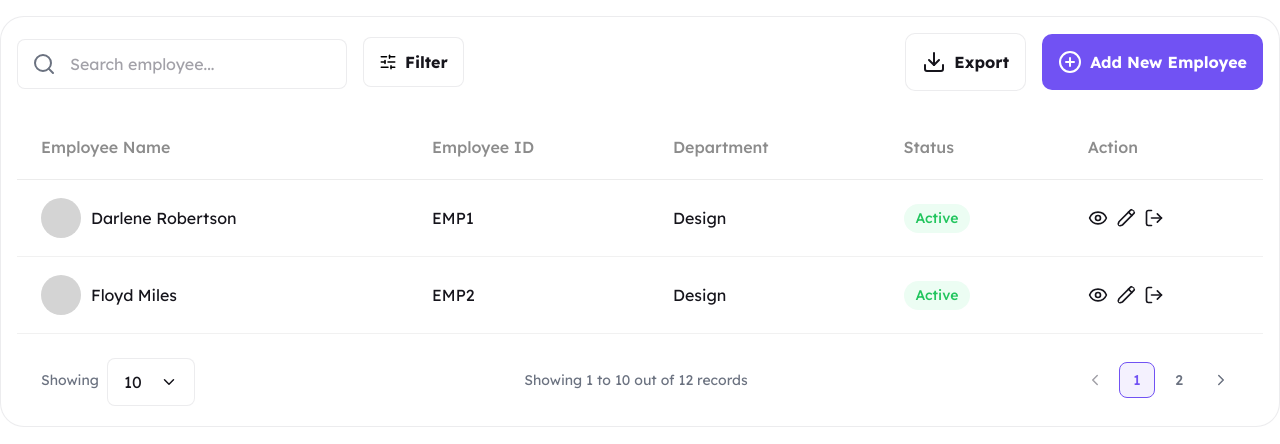
Test: EmployeesDashboard › reads the next page from the server and swaps the rows in
Click the button named "Next page".
click(1221, 380)  # box [1203, 362, 1239, 398]
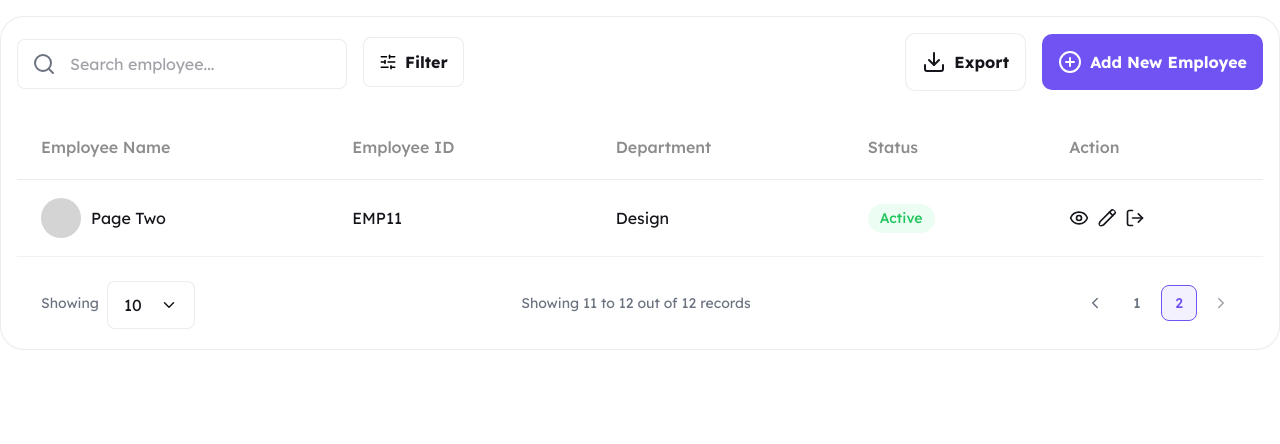
Now the text "Page Two" is shown, box [91, 206, 166, 230]
Now the text "Darlene Robertson" is gone
Now the text "Showing 11 to 12 out of 12 records" is shown, box [521, 292, 751, 314]
